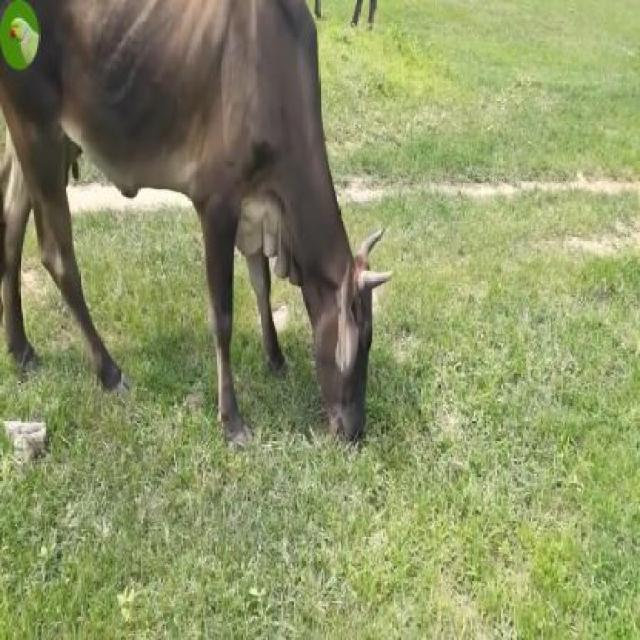Cow: (0, 0, 375, 440)
